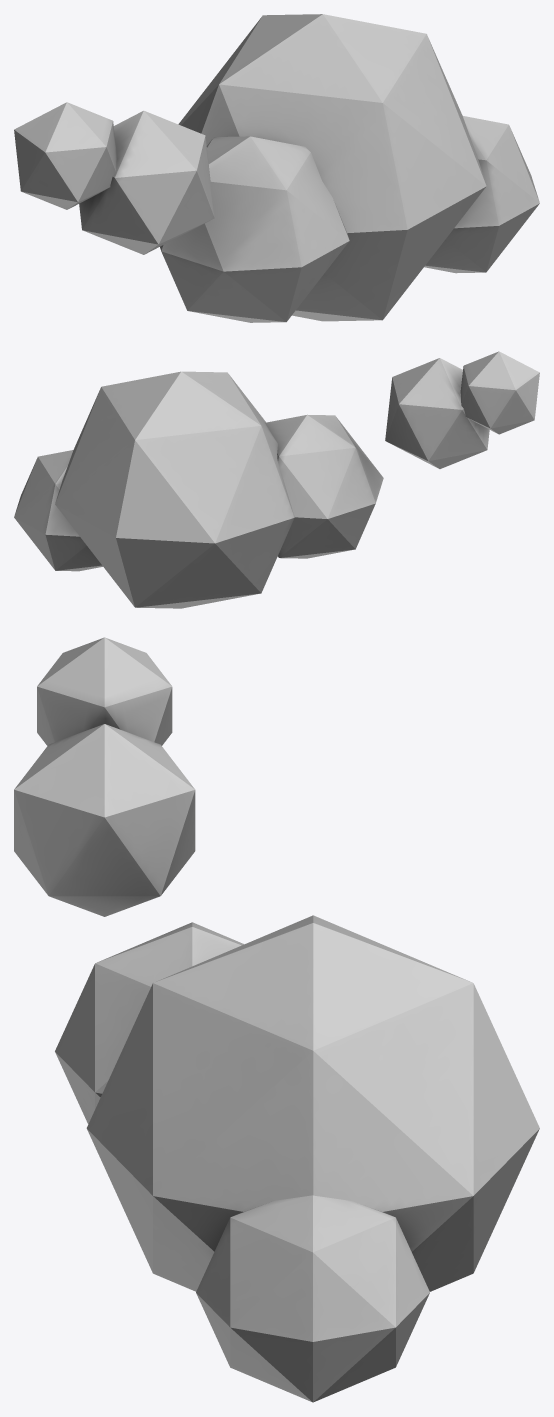
File: Cloud_4.fbx
3 views of the same model, one above another, from view 1: azimuth 30°, elevation 25°; view 2: azimuth 150°, elevation 25°; view 3: azimuth 270°, elevation 25° (orthographic). The views are drawn at different scales.
Visible parts, largest first — view 1: Cloud_4; view 2: Cloud_4; view 3: Cloud_4.
Part boxes in pixels (x1=…): Cloud_4: x1=14, y1=14, x2=539, y2=322; Cloud_4: x1=14, y1=351, x2=539, y2=608; Cloud_4: x1=14, y1=637, x2=539, y2=1402.
Size of the model in its own units: 89.6 by 52.09 by 51.89.
